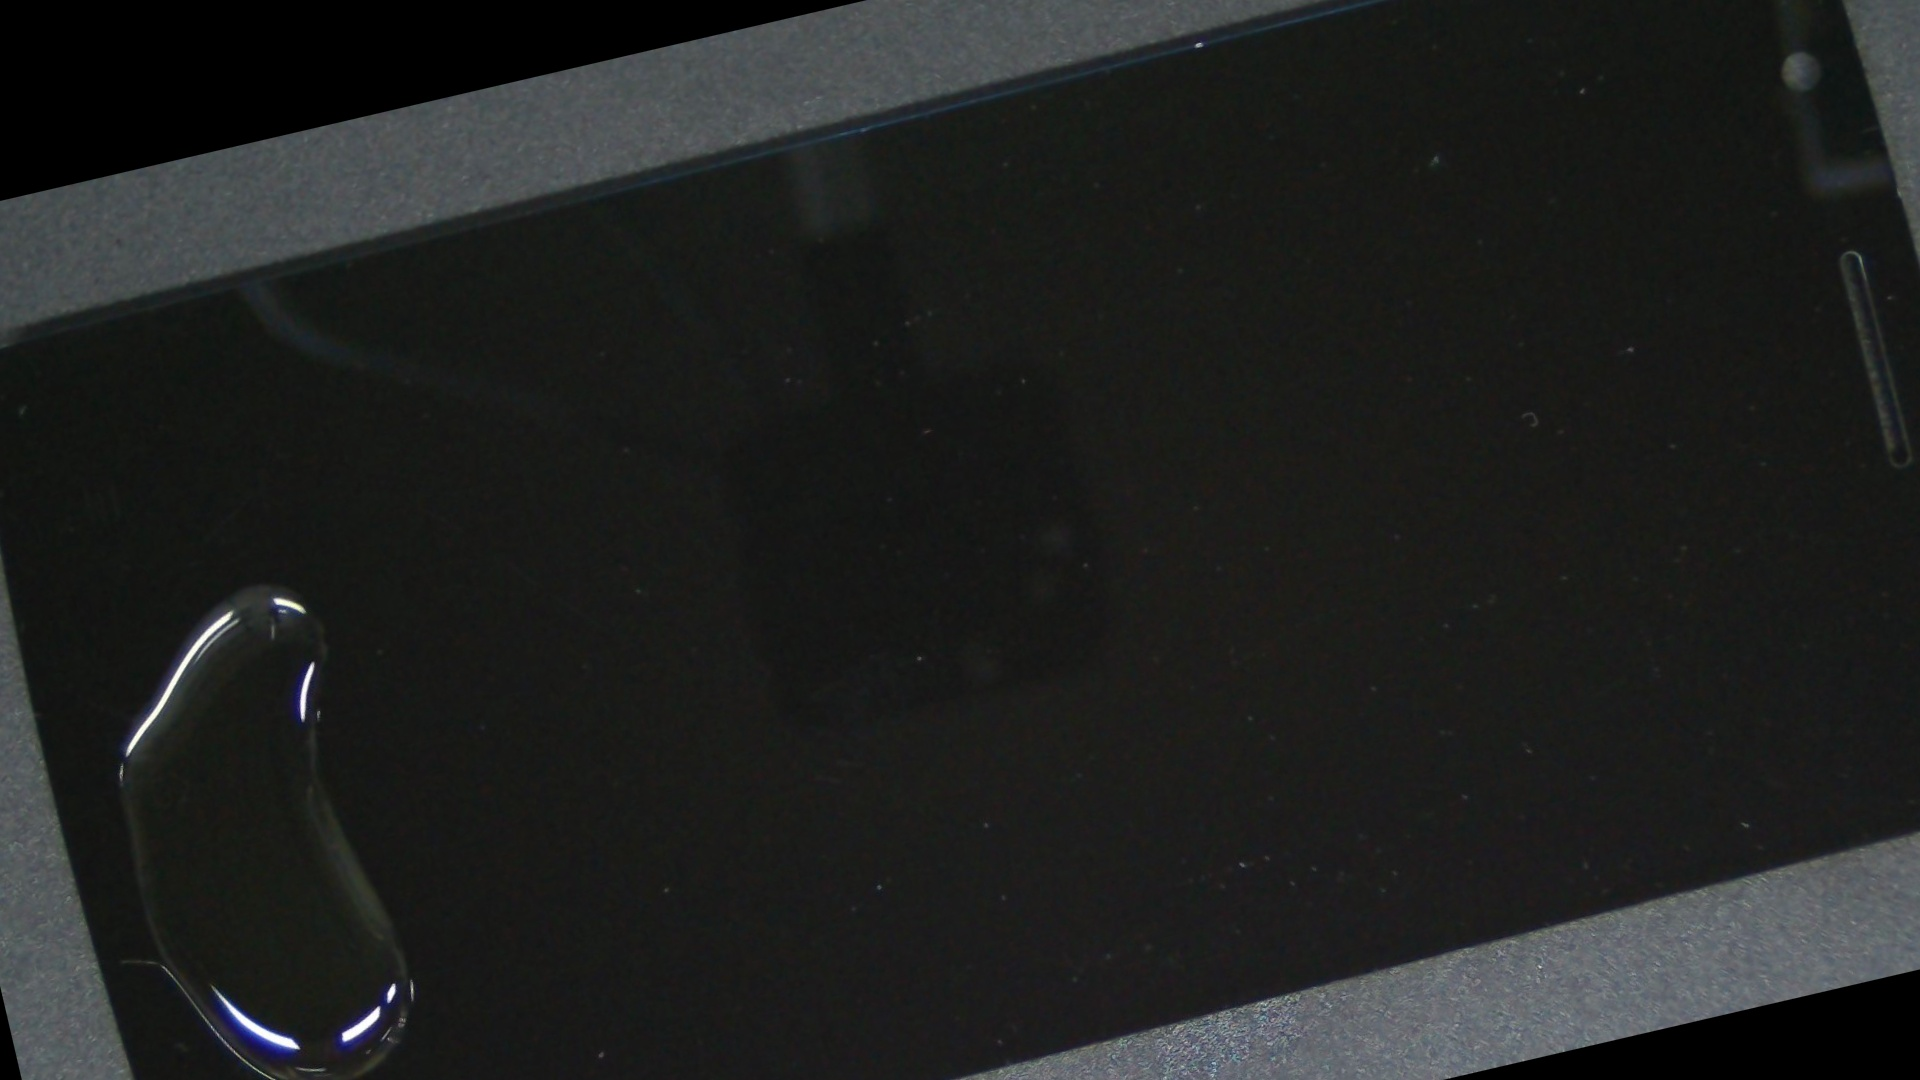oil: (38, 338, 460, 832)
